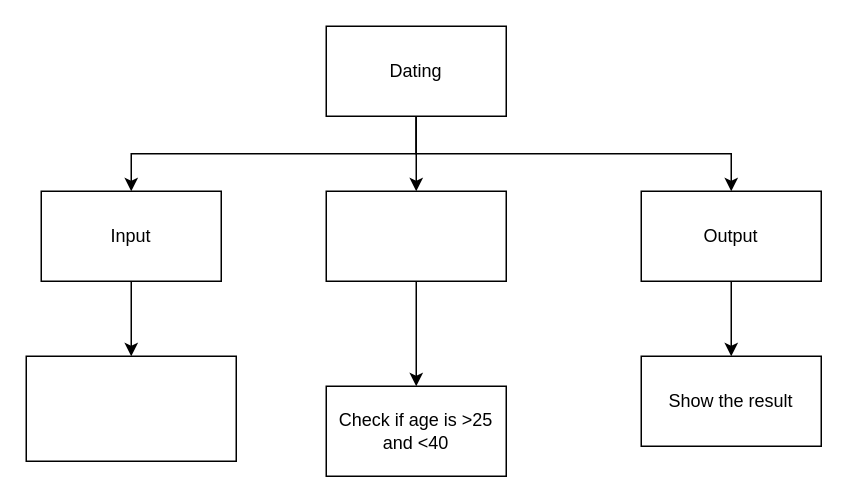
Image size: 848x503. Some labels were removed from this diagram. The centre of each missing label's shape, as x and y in pixels:
"Get age" belongs at (x=130, y=408).
"Process" belongs at (x=415, y=235).
